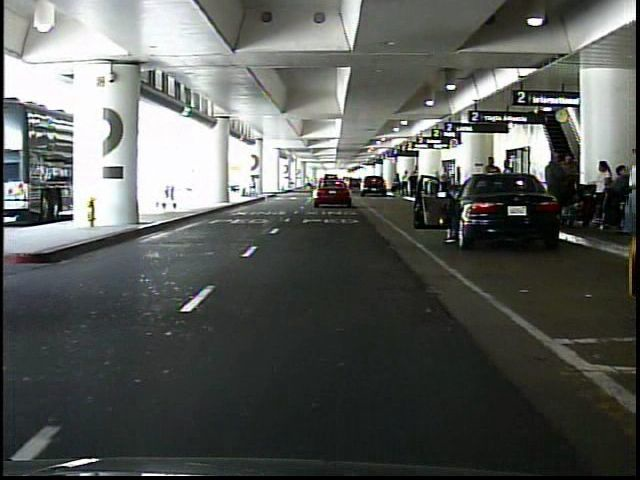person: (542, 149, 570, 226), (610, 164, 630, 232), (482, 156, 502, 215), (592, 160, 613, 212), (502, 157, 518, 213), (402, 169, 412, 198), (410, 172, 419, 199), (304, 174, 314, 191), (395, 175, 403, 196), (570, 149, 571, 227)
